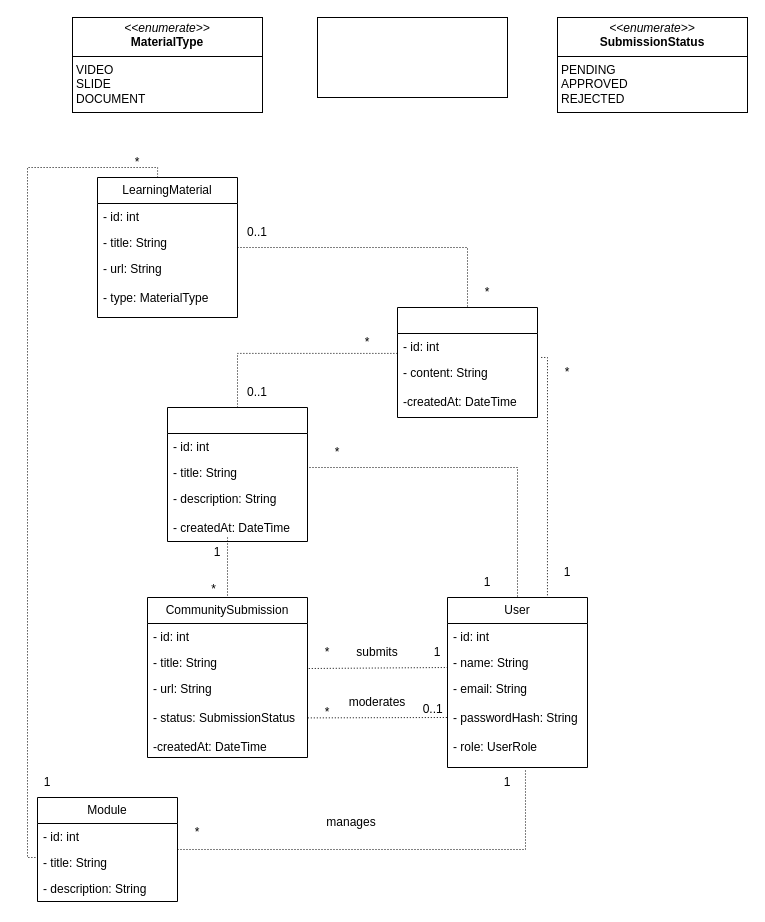
Image size: 765x922. Some labels were removed from this diagram. Each missing label, with the box of its shape:
<<enumerate>> UserRole STUDENT ADMIN: (316, 16, 508, 98)
Comment: (396, 306, 538, 418)
DiscussionTopic: (166, 406, 308, 542)
